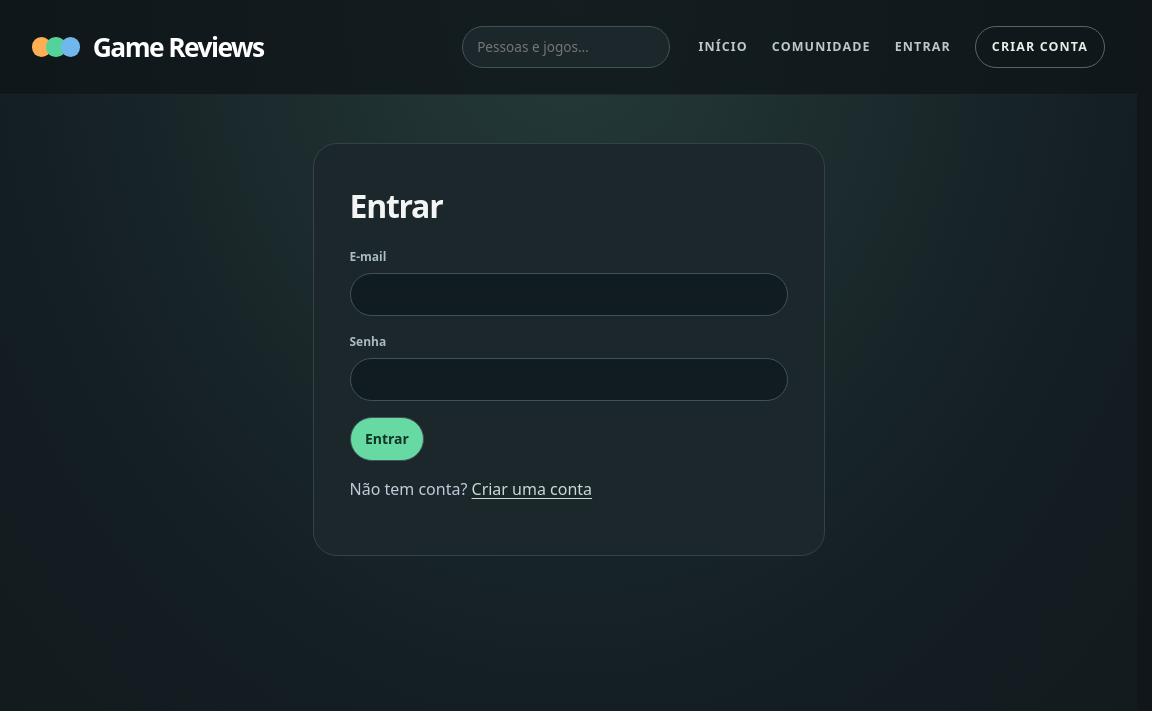
Test case: nome vazio é rejeitado antes de PATCH
In the field labelled "E-mail": (568, 294) [350,273,788,316], type "test@example.com"
In the password field labelled "Senha": (568, 380) [350,358,788,402], type "test-only"
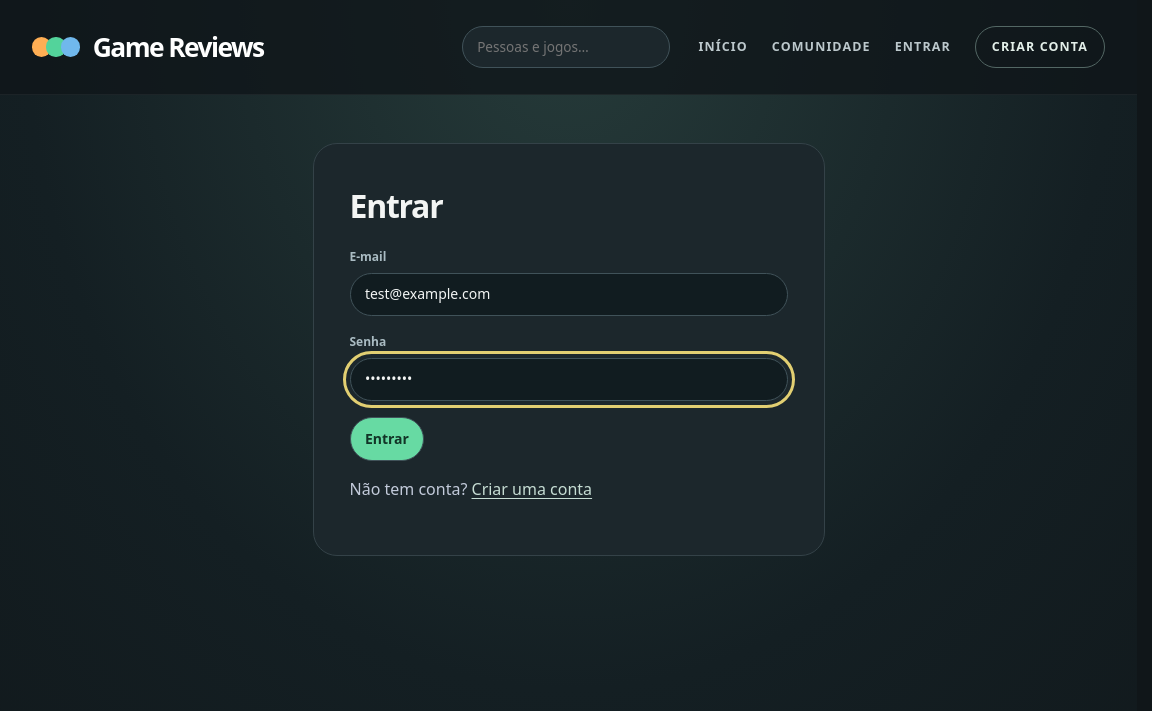
Click the button "Entrar": (387, 439) [350,417,424,461]
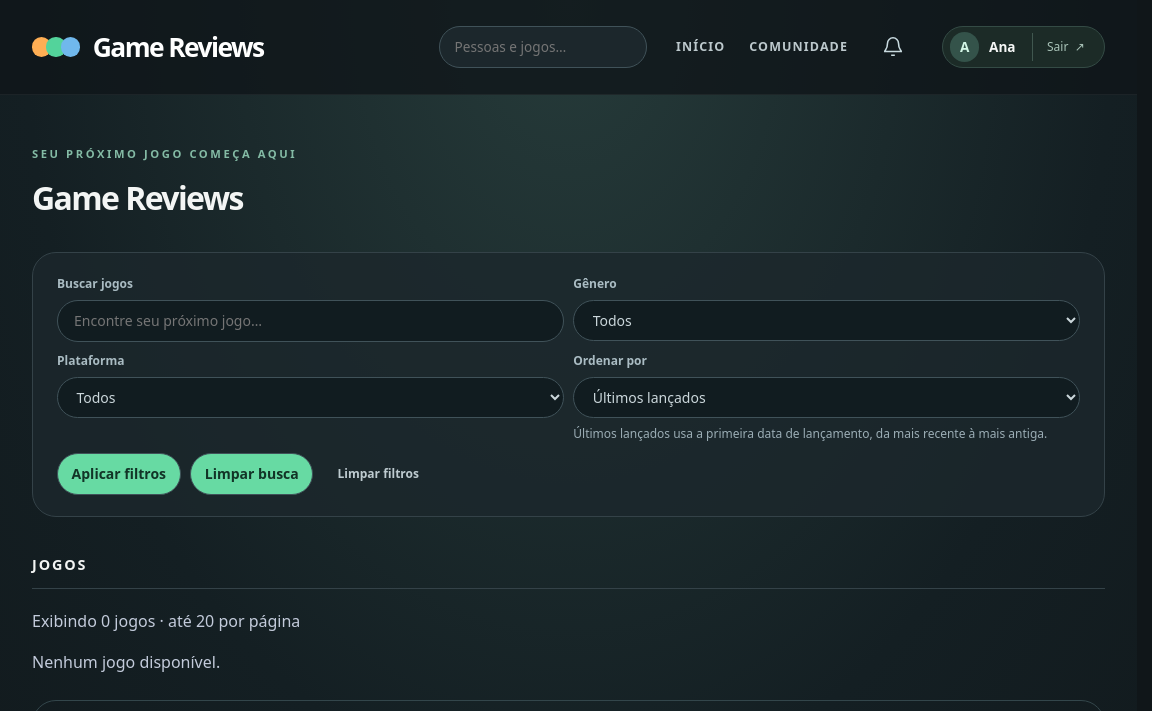
Click the link with aria-label "Meu perfil": (965, 47) [950,32,1016,62]
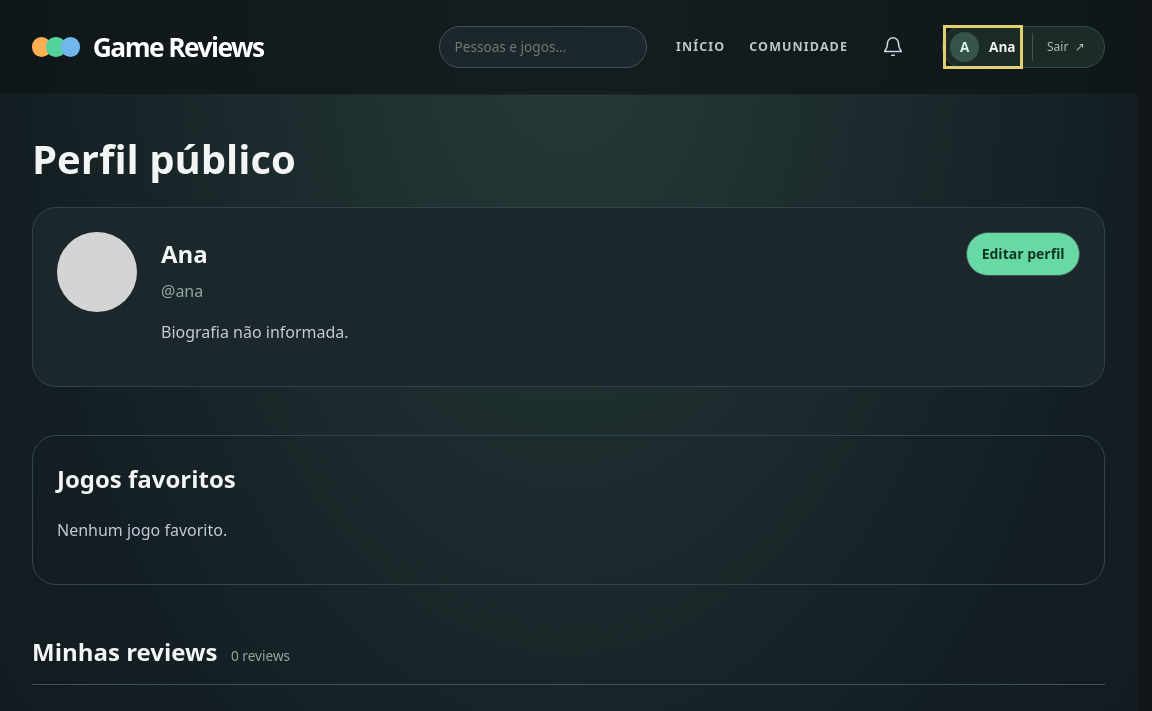
Result: the heading "Ana" is shown at [161,235,208,273]
Click the button "Editar perfil": (1023, 254) [966,232,1080,276]
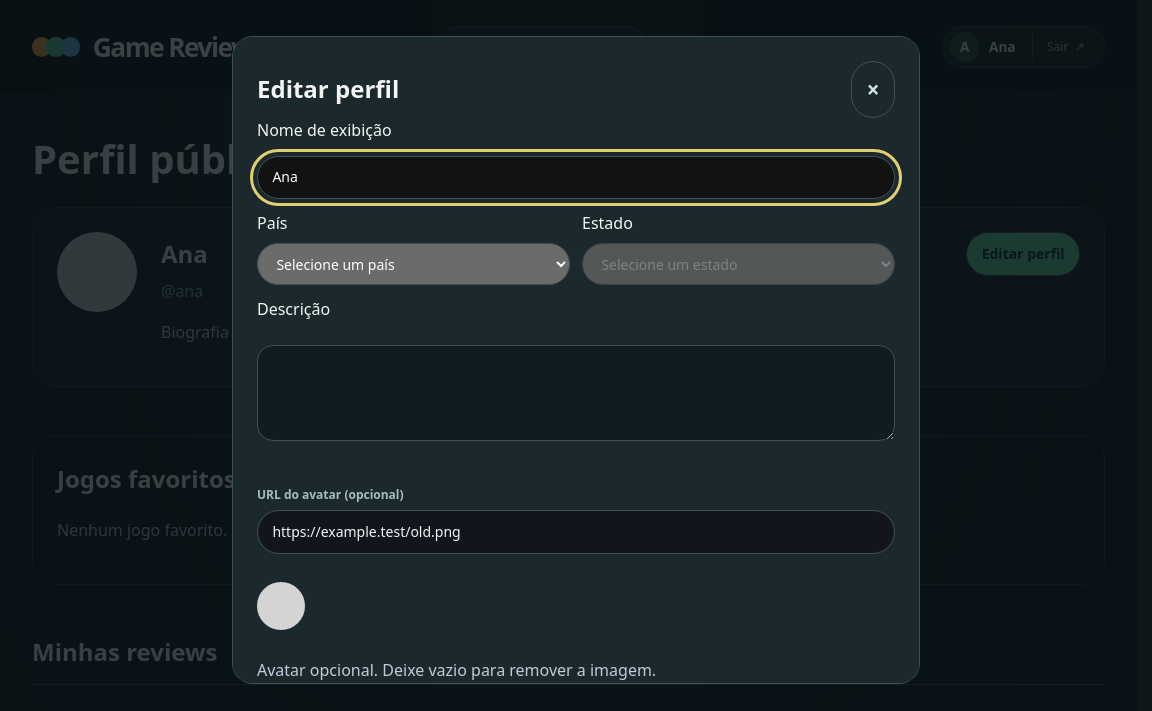
Clear the field labelled "Nome de exibição": (576, 177) [257,156,895,199]
(page scrolled)
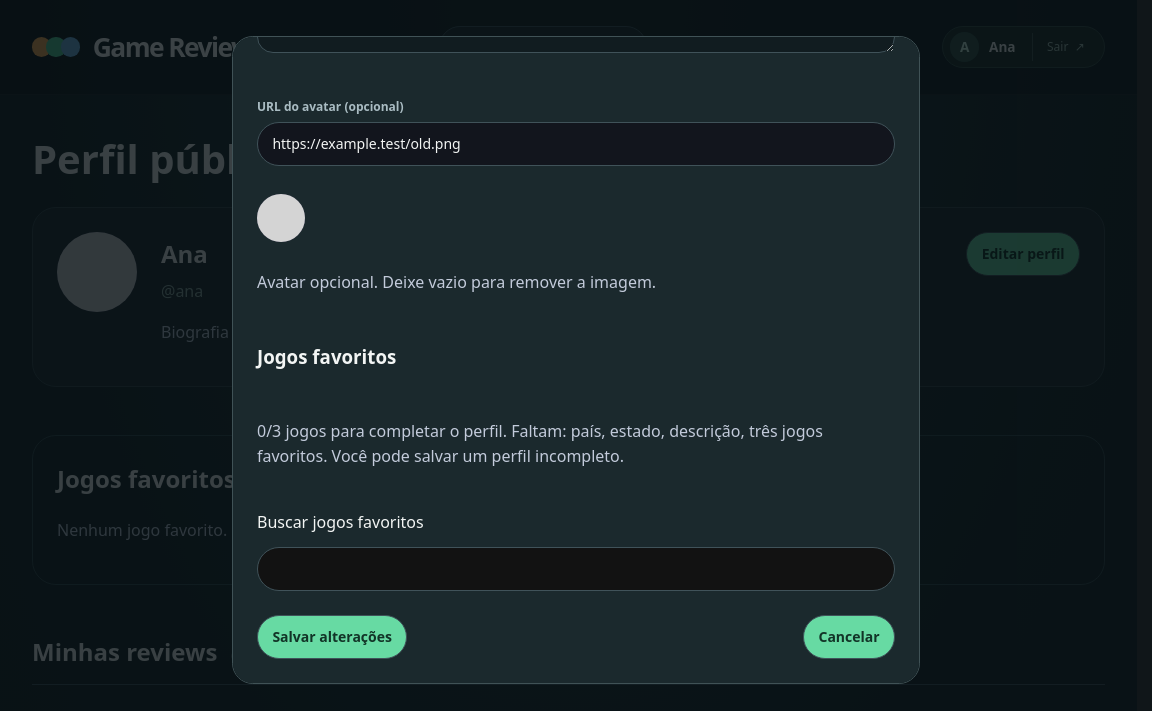
Click the button "Salvar alterações": (332, 637) [257,615,407,659]
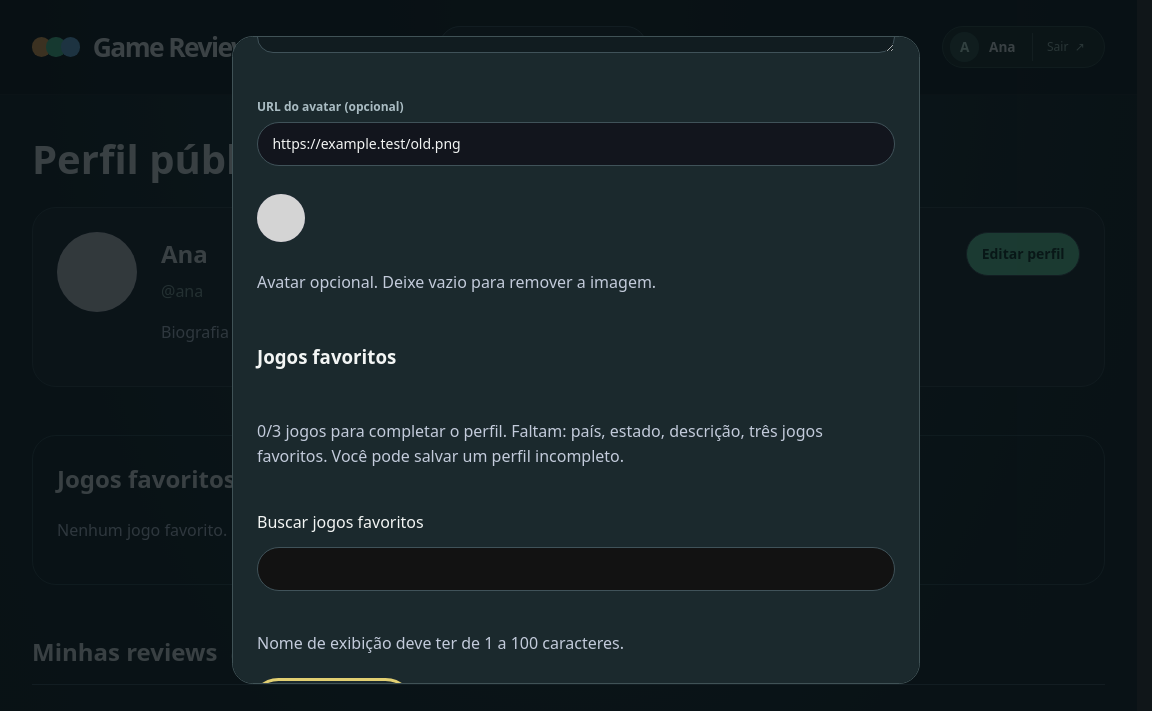
Result: the message shows "Nome" at [257,632,624,654]
